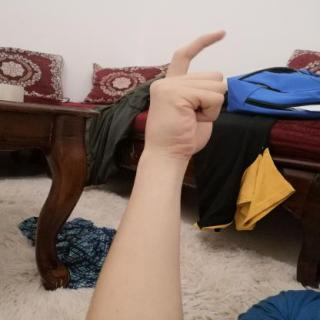RAA: (130, 21, 238, 163)
